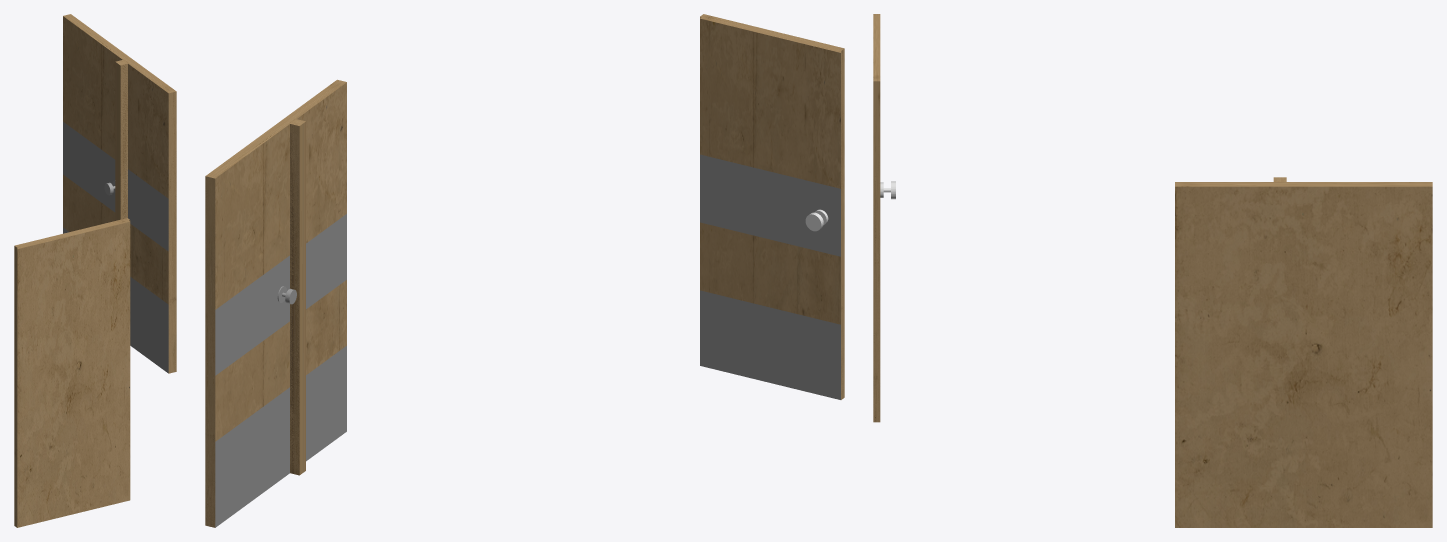
Rendered from Doors.fbx.
3 renders of one model, left to right at view 1: azimuth 30°, elevation 25°; view 2: azimuth 150°, elevation 25°; view 3: azimuth 270°, elevation 25°, orthographic. The views are drawn at different scales.
Visible parts, largest first — view 1: Cube.002, Cube.001, Cube.003; view 2: Cube.002, Cube.001, Cube.003; view 3: Cube.001, Cube.002.
Part boxes in pixels (x1=…): Cube.002: x1=14, y1=218, x2=130, y2=527; Cube.001: x1=63, y1=14, x2=176, y2=373; Cube.003: x1=115, y1=60, x2=127, y2=220; Cube.002: x1=700, y1=14, x2=844, y2=399; Cube.001: x1=205, y1=79, x2=346, y2=527; Cube.003: x1=290, y1=119, x2=305, y2=475; Cube.001: x1=1175, y1=182, x2=1432, y2=527; Cube.002: x1=873, y1=14, x2=880, y2=422.
Bounding box in the file's own units: 1390 × 1330 × 1951.
